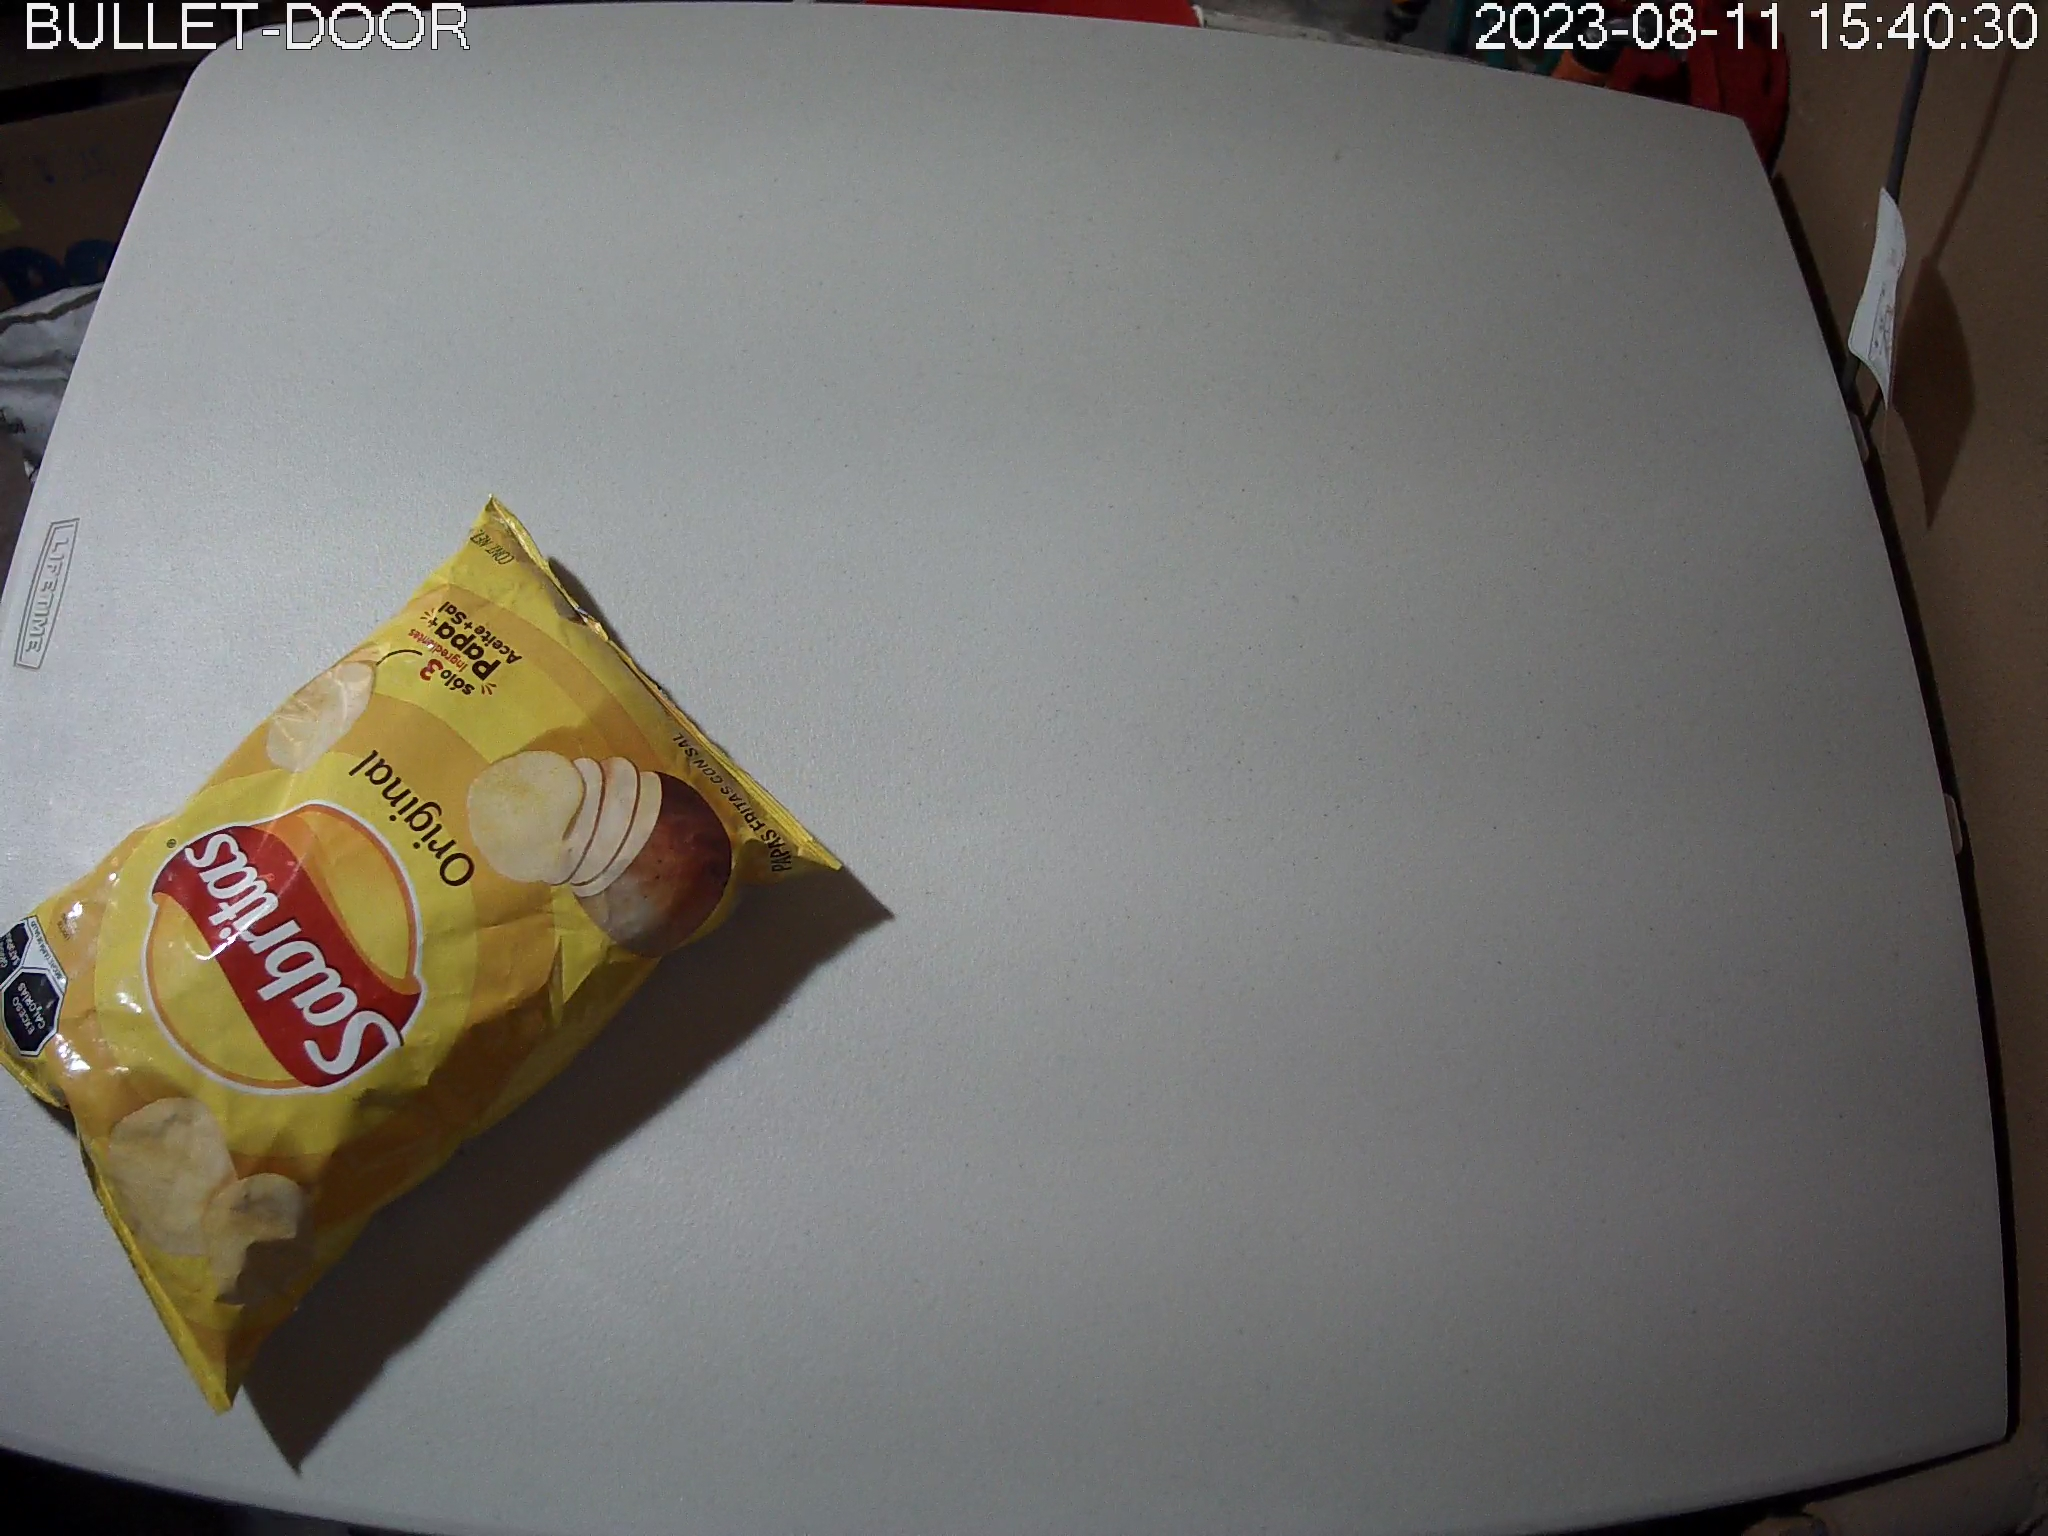Sabritas_160_F: (2, 494, 847, 1413)
